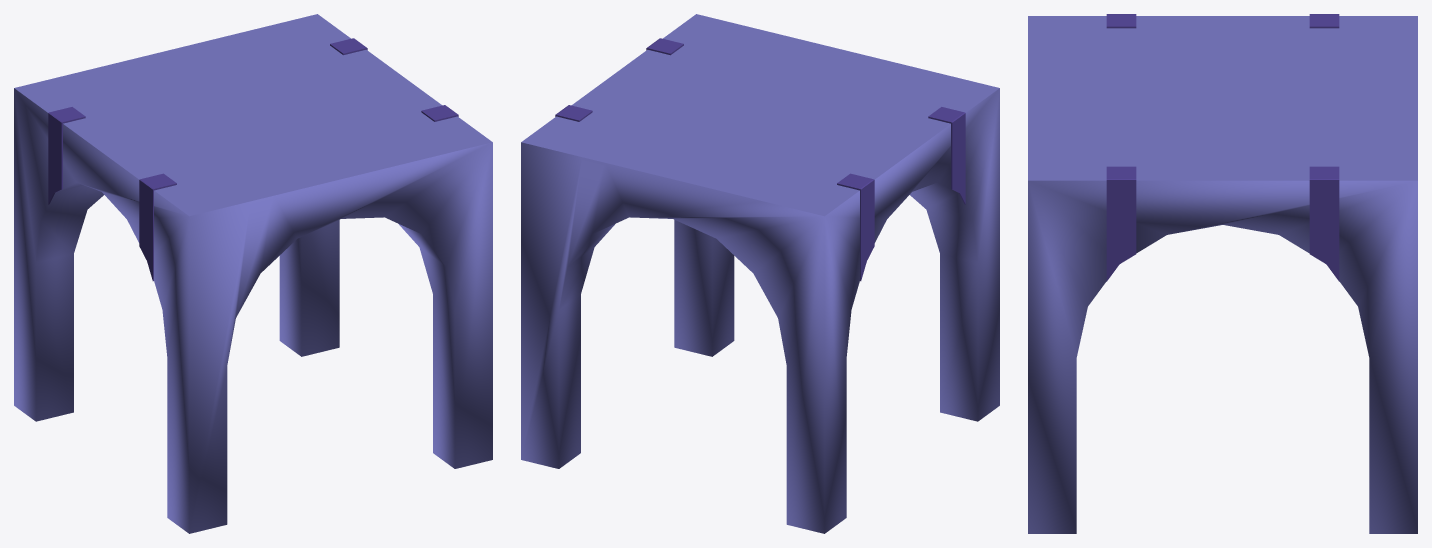
Rendered from WallFloor_021.fbx.
3 renders of one model, left to right at view 1: azimuth 30°, elevation 25°; view 2: azimuth 150°, elevation 25°; view 3: azimuth 270°, elevation 25°, orthographic. The views are drawn at different scales.
Parts seen in each view (by area): view 1: WallFloor.021; view 2: WallFloor.021; view 3: WallFloor.021.
Boxes of the visible parts, left/top/right/bottom form: WallFloor.021: left=14, top=14, right=492, bottom=533; WallFloor.021: left=521, top=14, right=999, bottom=533; WallFloor.021: left=1028, top=14, right=1417, bottom=533.
Size of the model in its own units: 200 by 202 by 201.
